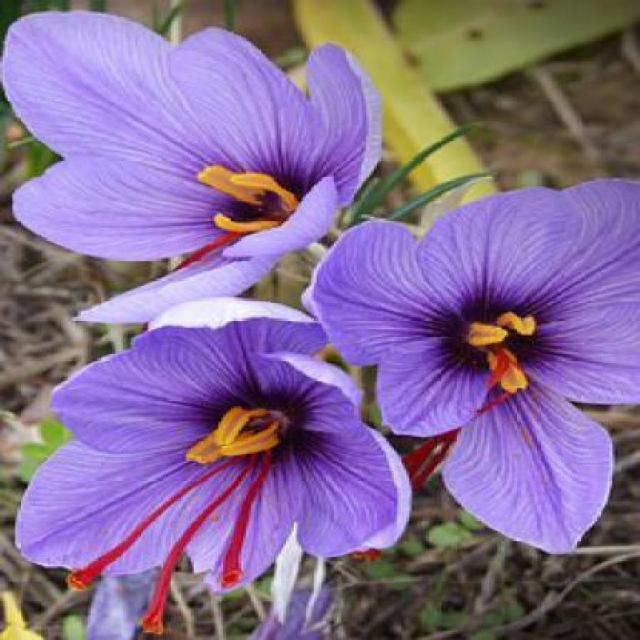Flower: (312, 182, 640, 556), (5, 12, 380, 319), (14, 289, 412, 574)
stigma: (139, 471, 250, 634), (68, 471, 204, 592), (221, 460, 283, 586)
